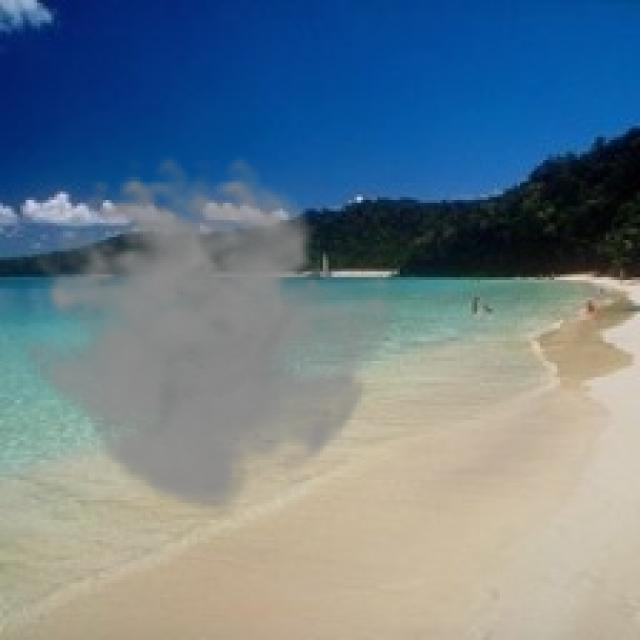smoke: (8, 154, 406, 517)
